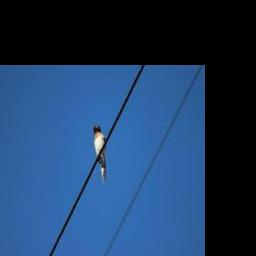Swallow: (93, 124, 108, 183)
